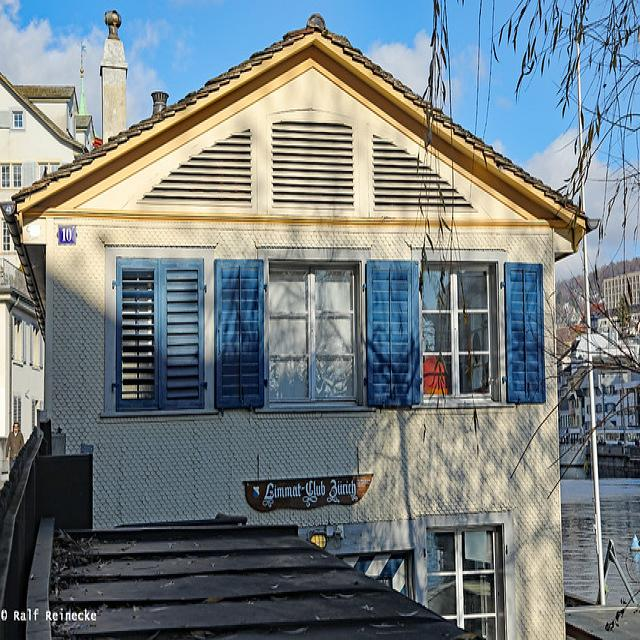Normal_building: (12, 13, 596, 630)
